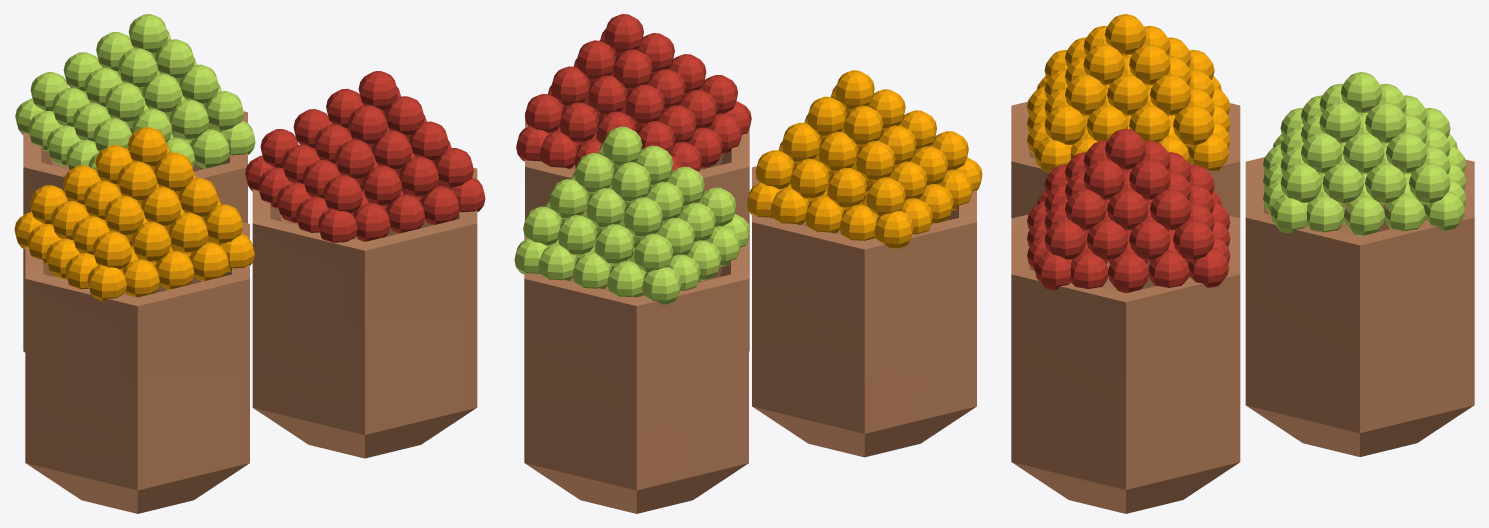
File: MSH_Fruits.fbx
The picture shows the model from 3 angles, left to right: view 1: azimuth 30°, elevation 25°; view 2: azimuth 150°, elevation 25°; view 3: azimuth 270°, elevation 25°; orthographic projection.
Visible parts, largest first — view 1: MSH_Fruits_Rack, MSH_Apple, MSH_Lemon, MSH_Oranges; view 2: MSH_Fruits_Rack, MSH_Oranges, MSH_Apple, MSH_Lemon; view 3: MSH_Fruits_Rack, MSH_Lemon, MSH_Oranges, MSH_Apple.
Boxes of the visible parts, x1,y1,x2,y2 form: MSH_Fruits_Rack: (23,111,477,513); MSH_Apple: (14,127,254,301); MSH_Lemon: (245,71,485,242); MSH_Oranges: (15,14,255,179); MSH_Fruits_Rack: (524,112,976,513); MSH_Oranges: (514,126,749,304); MSH_Apple: (747,70,982,249); MSH_Lemon: (516,14,751,171); MSH_Fruits_Rack: (1011,101,1474,513); MSH_Lemon: (1027,128,1230,293); MSH_Oranges: (1263,72,1466,236); MSH_Apple: (1027,14,1230,172).
Bounding box in the file's own units: 124 × 93.54 × 108.
